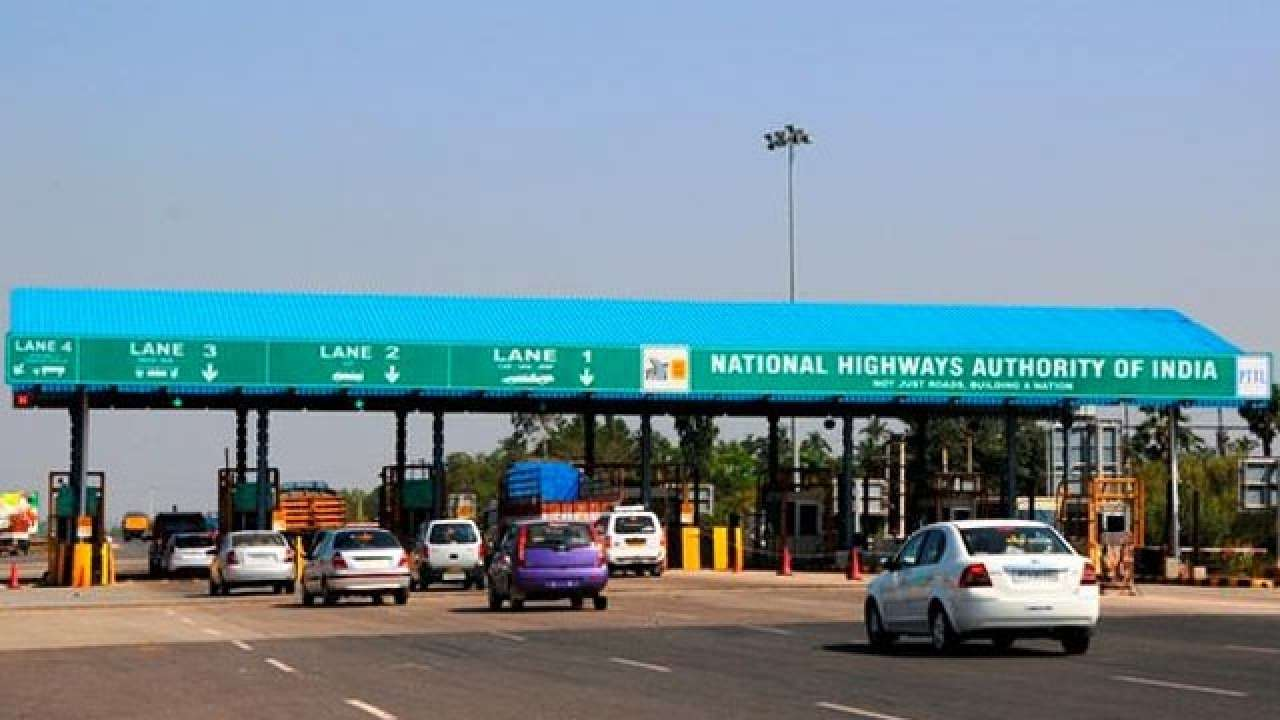toll plaza: (12, 254, 1240, 564)
